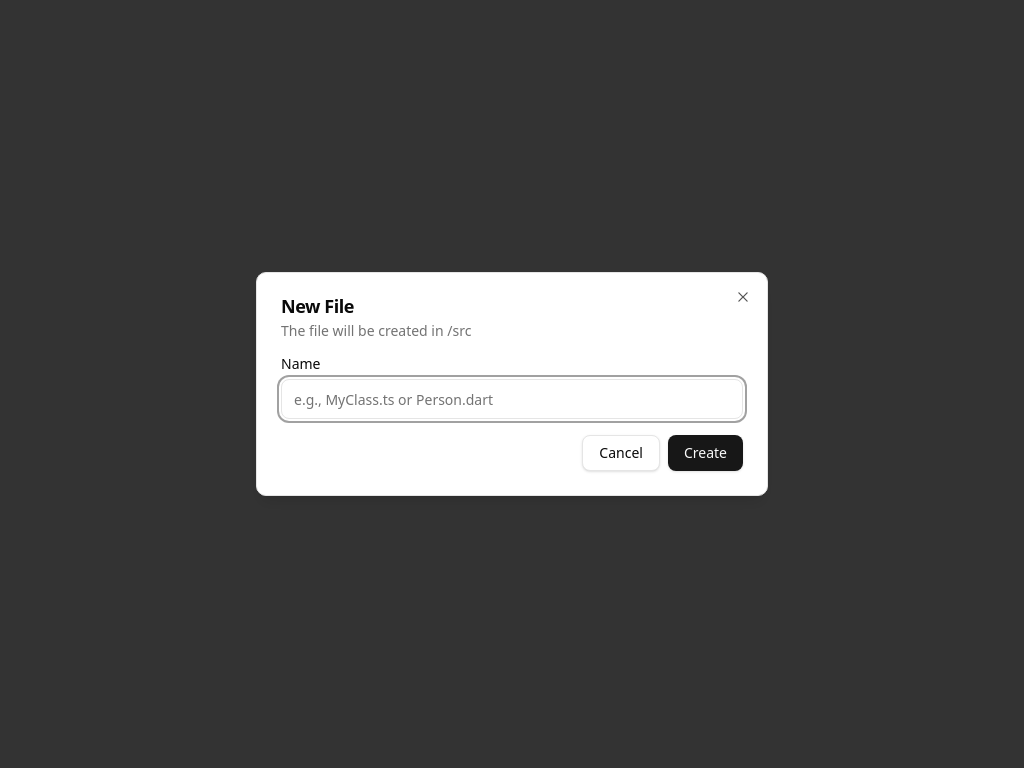
Test case: Create File Integration › shows error when file name has no extension
Type "helper" into the field at (512, 399), box [281, 379, 743, 419]
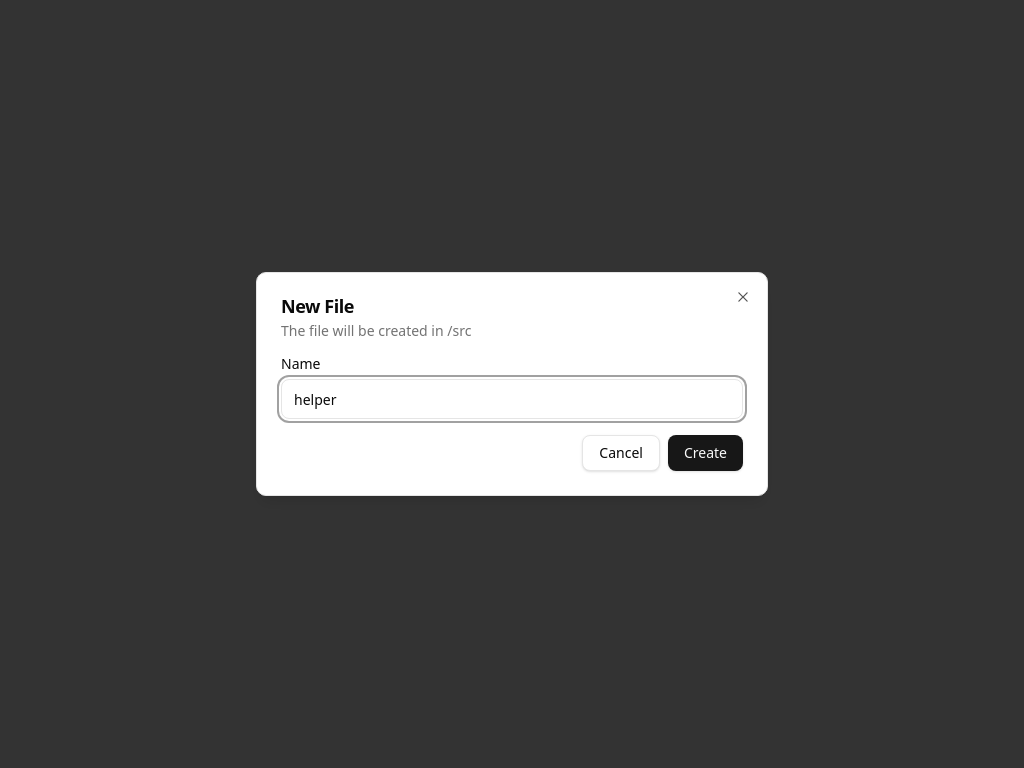
Click the button "Create" at (705, 453), box [668, 435, 743, 471]
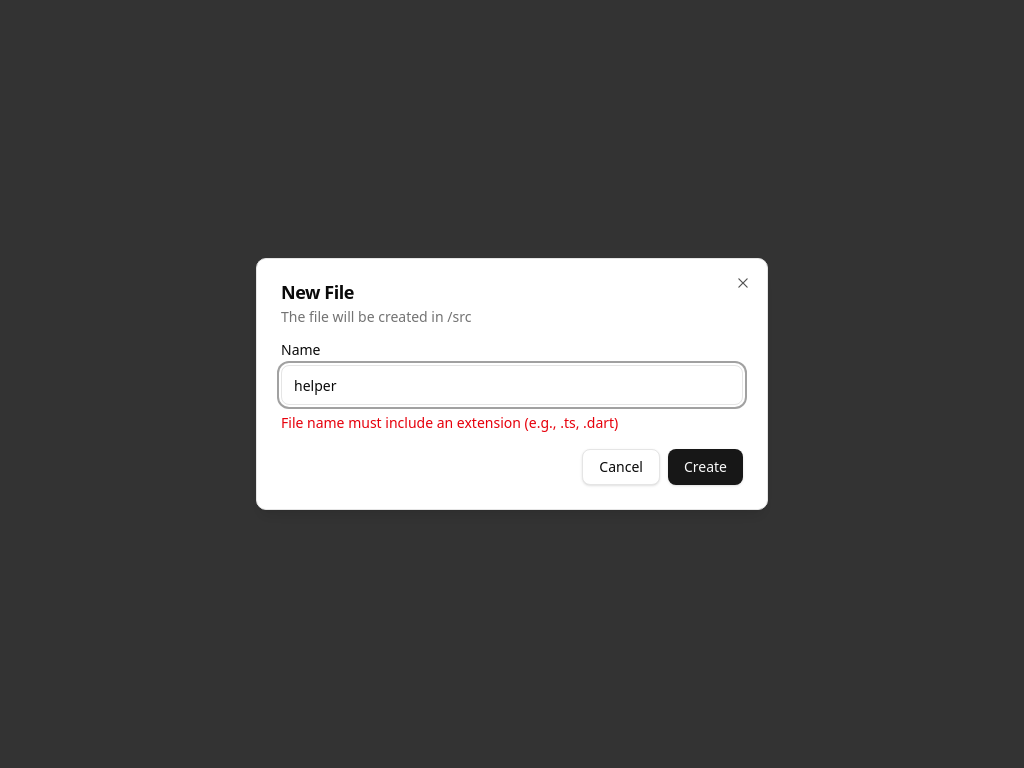
Check: the text "File name must include an extension (e.g., .ts, .dart)" is shown, box [281, 413, 618, 432]
